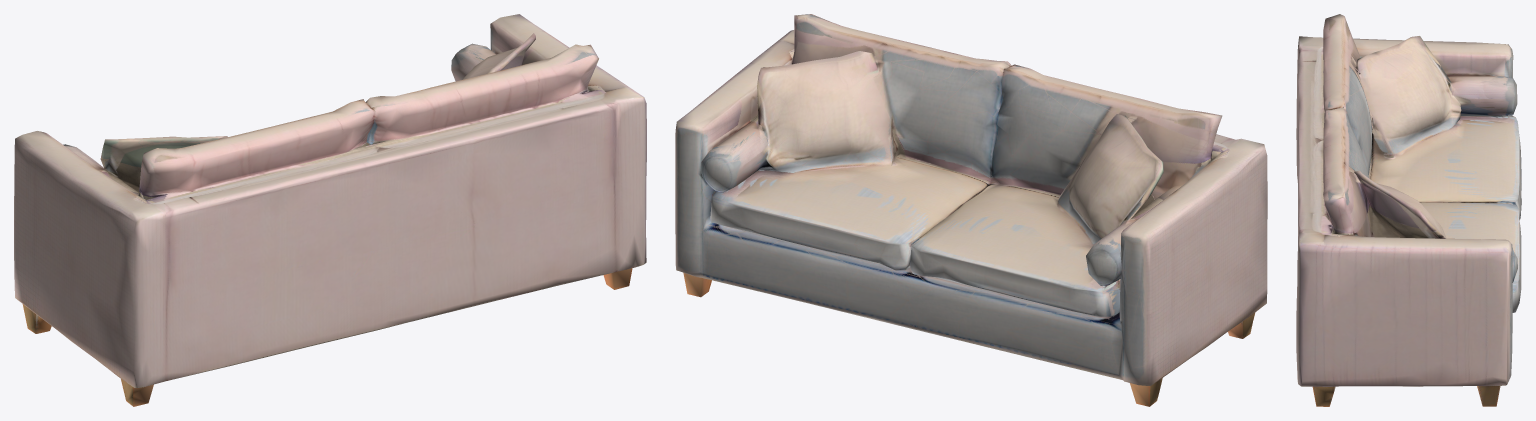
File: Low_poly_cozy_couch__0625144719_texture.fbx
3 views of the same model, side by side, from view 1: azimuth 30°, elevation 25°; view 2: azimuth 150°, elevation 25°; view 3: azimuth 270°, elevation 25° (orthographic). The views are drawn at different scales.
Parts seen in each view (by area): view 1: Mesh_0; view 2: Mesh_0; view 3: Mesh_0.
Part boxes in pixels (x1,y1,x2,y2): Mesh_0: (14,14,646,406); Mesh_0: (675,14,1267,406); Mesh_0: (1296,14,1521,406).
Size of the model in its own units: 200 by 89.03 by 90.28.
Materials: 1 (1 with a texture image).
